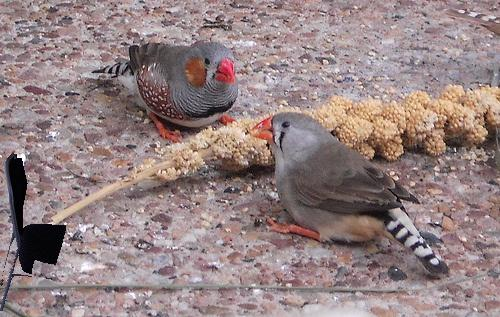tampered: (1, 154, 66, 311)
